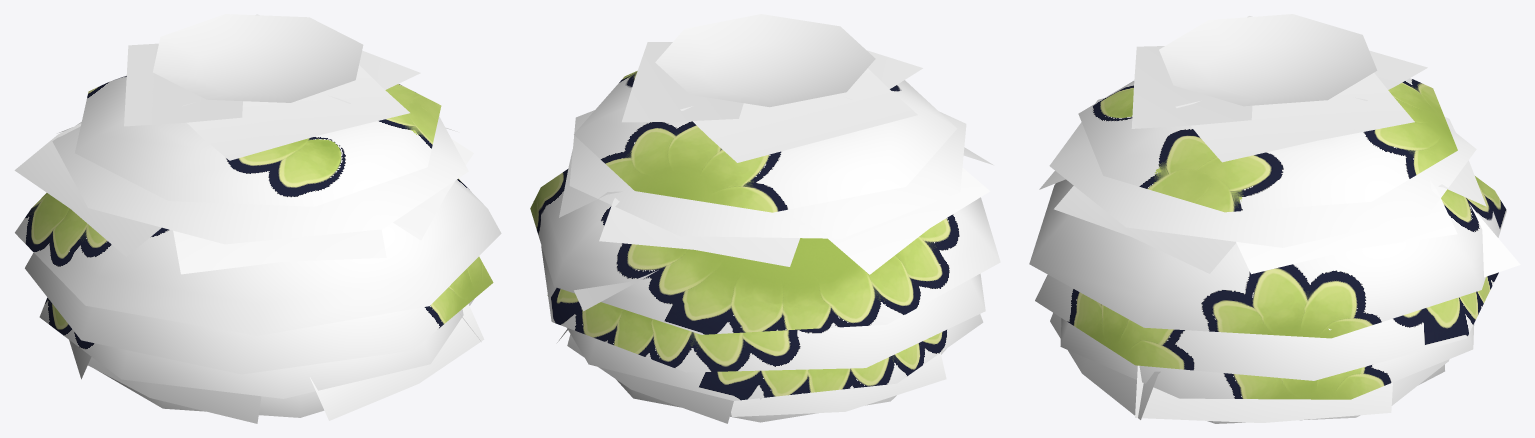
Rendered from Bush_01.fbx.
The picture shows the model from 3 angles, left to right: view 1: azimuth 30°, elevation 25°; view 2: azimuth 150°, elevation 25°; view 3: azimuth 270°, elevation 25°; orthographic projection.
Parts seen in each view (by area): view 1: Bush; view 2: Bush; view 3: Bush.
Part boxes in pixels (x1,y1,x2,y2): Bush: (14, 14, 501, 423); Bush: (530, 14, 1000, 423); Bush: (1029, 14, 1520, 423).
Bounding box in the file's own units: 95.15 × 63.5 × 97.87.
